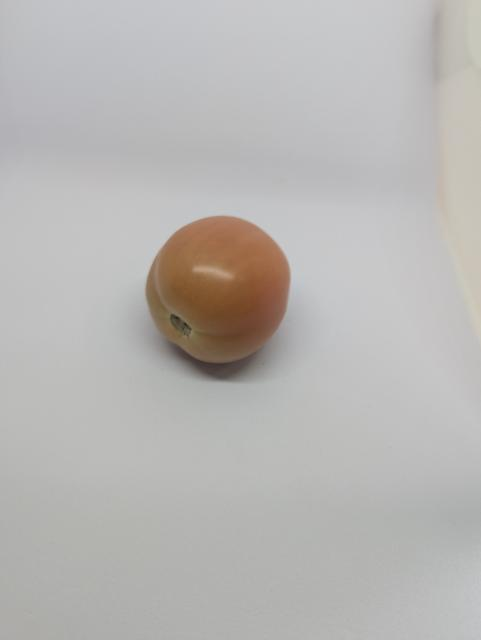turning: (138, 210, 299, 374)
